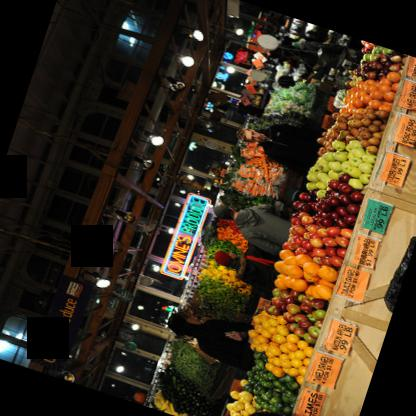handbag: (243, 254, 281, 272)
